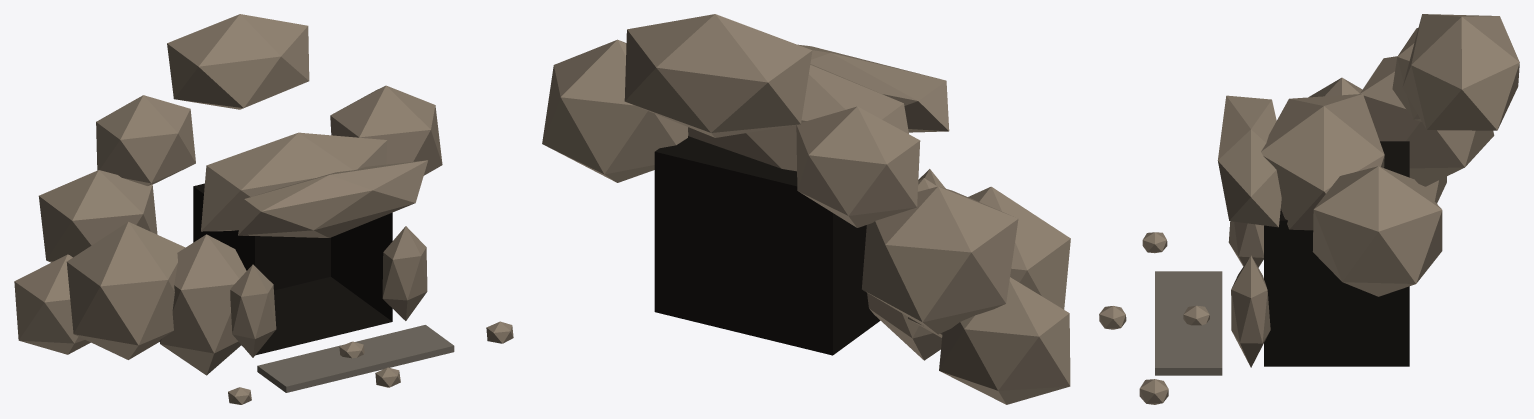
The model's file is tambotoco_cave_lod1.glb.
3 views of the same model, side by side, from view 1: azimuth 30°, elevation 25°; view 2: azimuth 150°, elevation 25°; view 3: azimuth 270°, elevation 25° (orthographic). The views are drawn at different scales.
Parts seen in each view (by area): view 1: tambotoco_cave; view 2: tambotoco_cave; view 3: tambotoco_cave.
Part boxes in pixels (x1=…): tambotoco_cave: x1=14, y1=14, x2=513, y2=404; tambotoco_cave: x1=542, y1=14, x2=1070, y2=404; tambotoco_cave: x1=1099, y1=14, x2=1519, y2=404.
Size of the model in its own units: 10.68 by 7.28 by 8.09.
